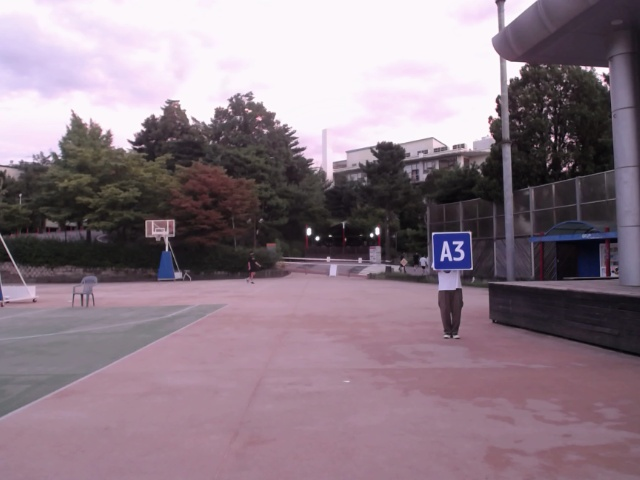delivery_a3: (432, 233, 472, 271)
